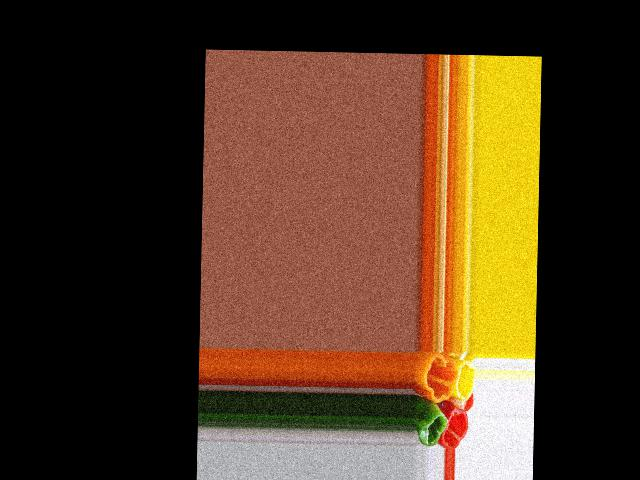bell_pepper: (442, 407, 469, 447)
